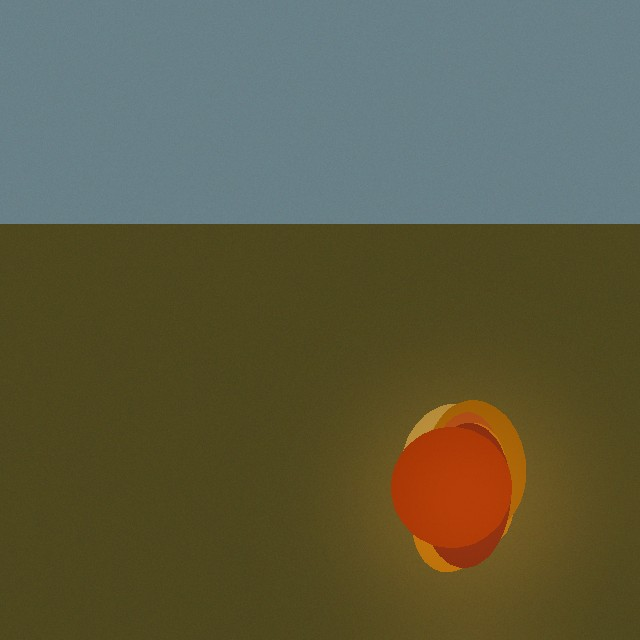fire: (395, 443, 537, 557)
